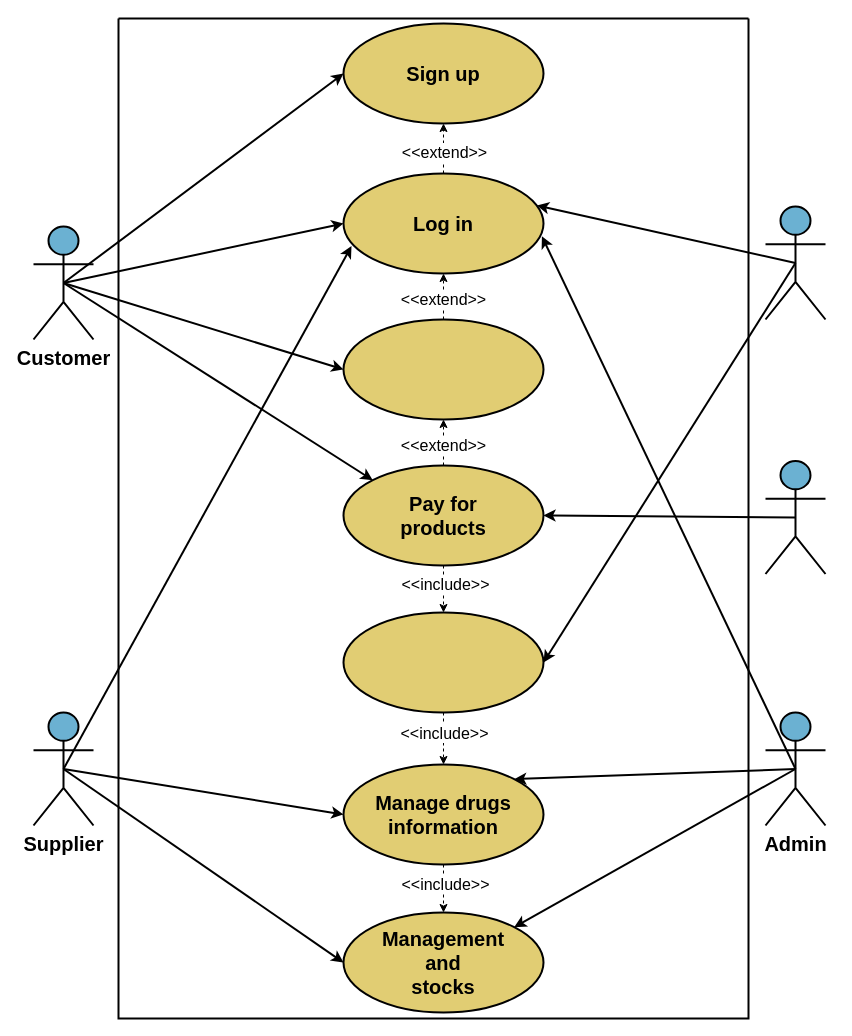
Image size: 852x1036. Some labels were removed from this diagram. Here are the shapes that lost their labels. From the top down, the box of each, then its label:
(764, 205, 826, 320): Delivery man
(342, 318, 544, 420): Make order
(764, 460, 826, 574): Bank
(342, 611, 544, 713): Manage delivering
